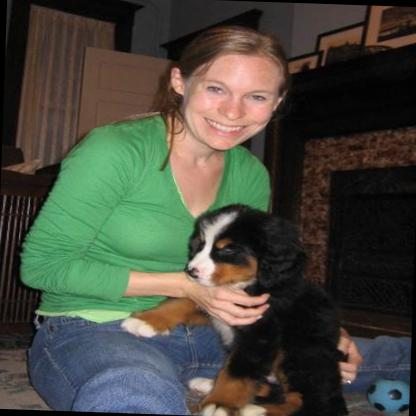Bernese_mountain_dog: (113, 195, 360, 416)
